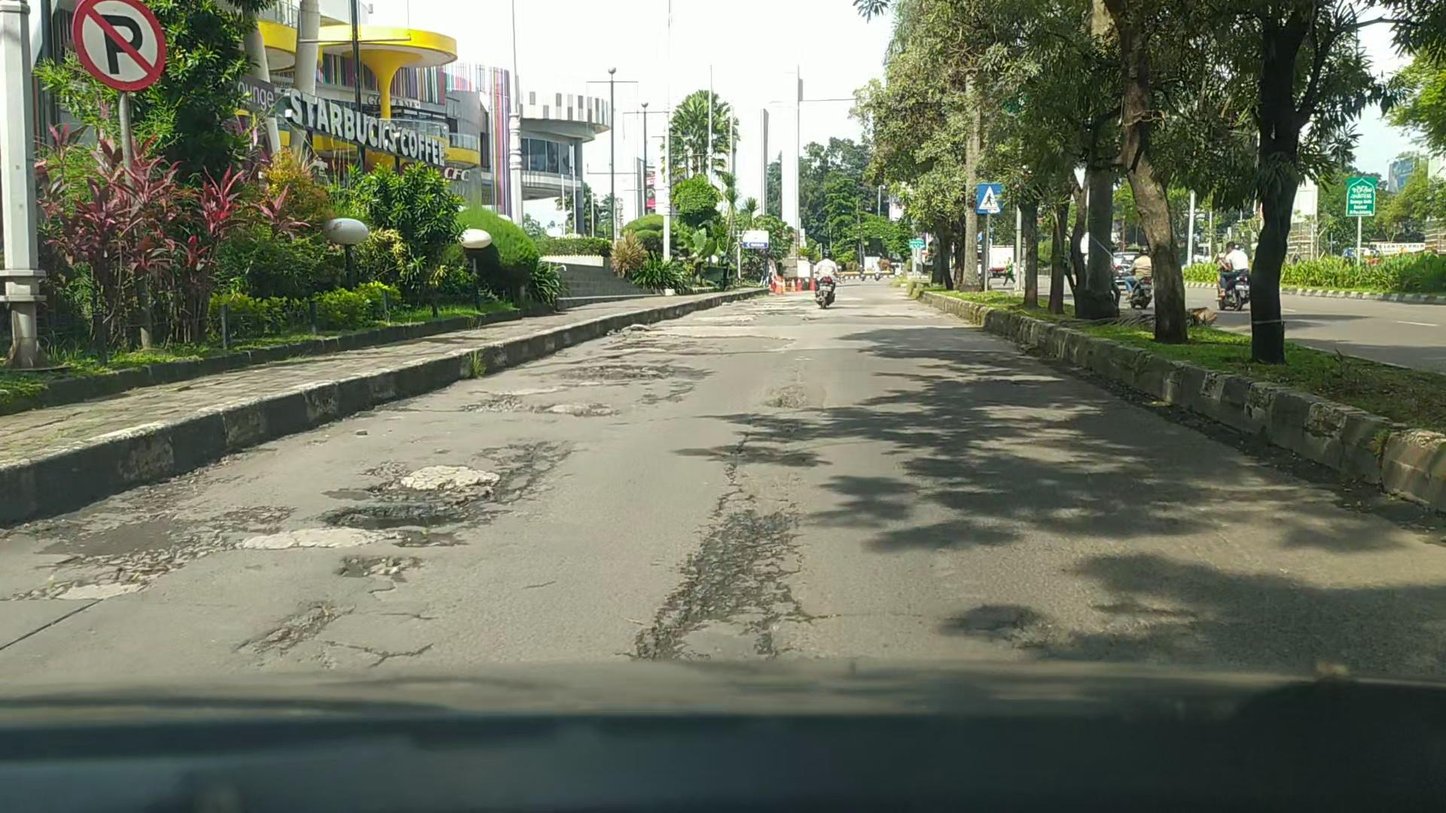pothole: (636, 508, 790, 660), (321, 501, 469, 533), (566, 364, 699, 382)
